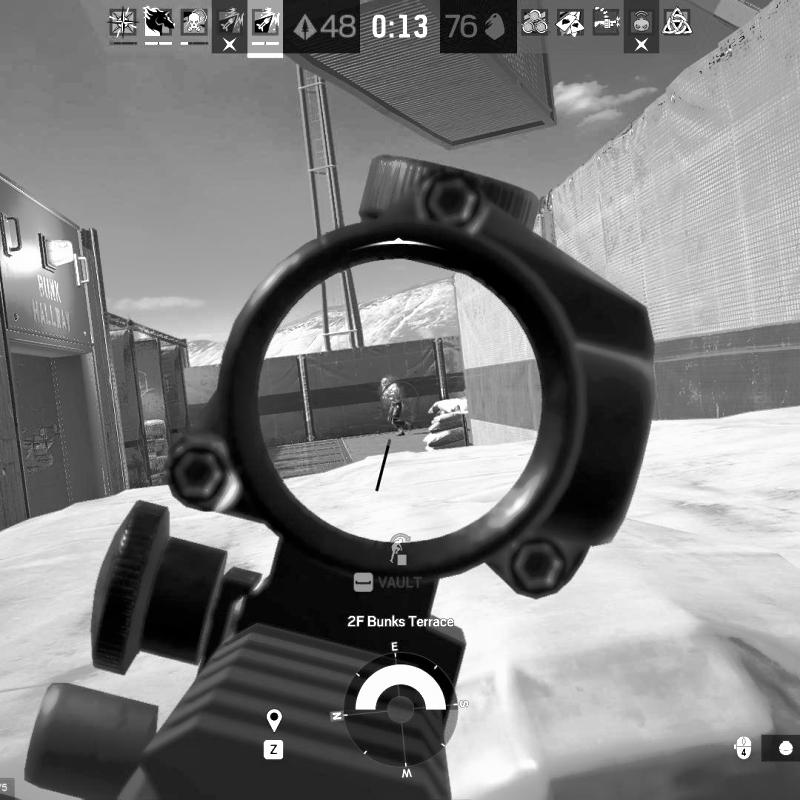Character: (380, 377, 415, 437)
Head: (381, 376, 390, 388)
